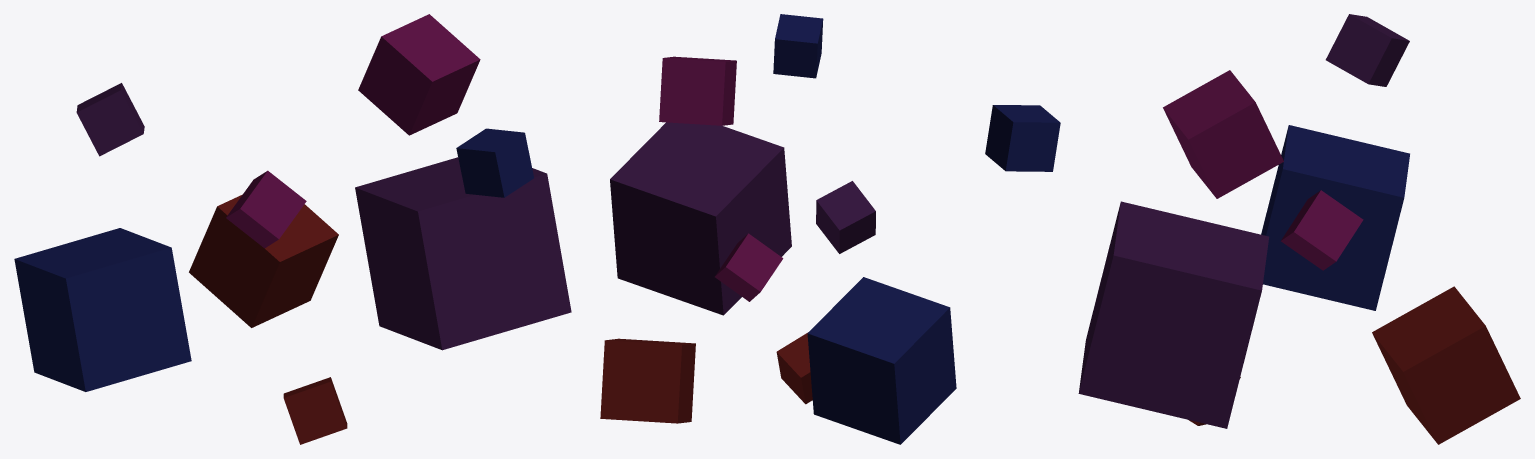
File: boxes.glb
3 renders of one model, left to right at view 1: azimuth 30°, elevation 25°; view 2: azimuth 150°, elevation 25°; view 3: azimuth 270°, elevation 25°, orthographic. The views are drawn at different scales.
Parts seen in each view (by area): view 1: Cube.001, Cube.003, Cube.002, Cube.007, Cube.006, Cube, Cube.005, Cube.004; view 2: Cube.001, Cube.003, Cube.002, Cube.007, Cube.005, Cube.006, Cube, Cube.004; view 3: Cube.001, Cube.003, Cube.002, Cube.007, Cube.006, Cube.005, Cube.
Boxes of the visible parts, x1,y1,x2,y2 form: Cube.001: (355, 157, 571, 350); Cube.003: (14, 228, 191, 391); Cube.002: (189, 194, 338, 327); Cube.007: (358, 14, 480, 135); Cube.006: (456, 128, 533, 197); Cube: (226, 170, 306, 248); Cube.005: (76, 83, 144, 156); Cube.004: (283, 377, 347, 444); Cube.001: (610, 122, 791, 315); Cube.003: (807, 277, 956, 444); Cube.002: (600, 338, 695, 423); Cube.007: (659, 56, 736, 125); Cube.005: (816, 181, 875, 253); Cube.006: (773, 14, 823, 78); Cube: (715, 233, 783, 301); Cube.004: (776, 332, 812, 404); Cube.001: (1078, 201, 1269, 428); Cube.003: (1261, 125, 1409, 310); Cube.002: (1372, 286, 1520, 444); Cube.007: (1163, 70, 1283, 198); Cube.006: (985, 105, 1060, 171); Cube.005: (1325, 14, 1409, 86); Cube: (1281, 190, 1363, 270).
Size of the model in its own units: 117 by 103 by 126.
